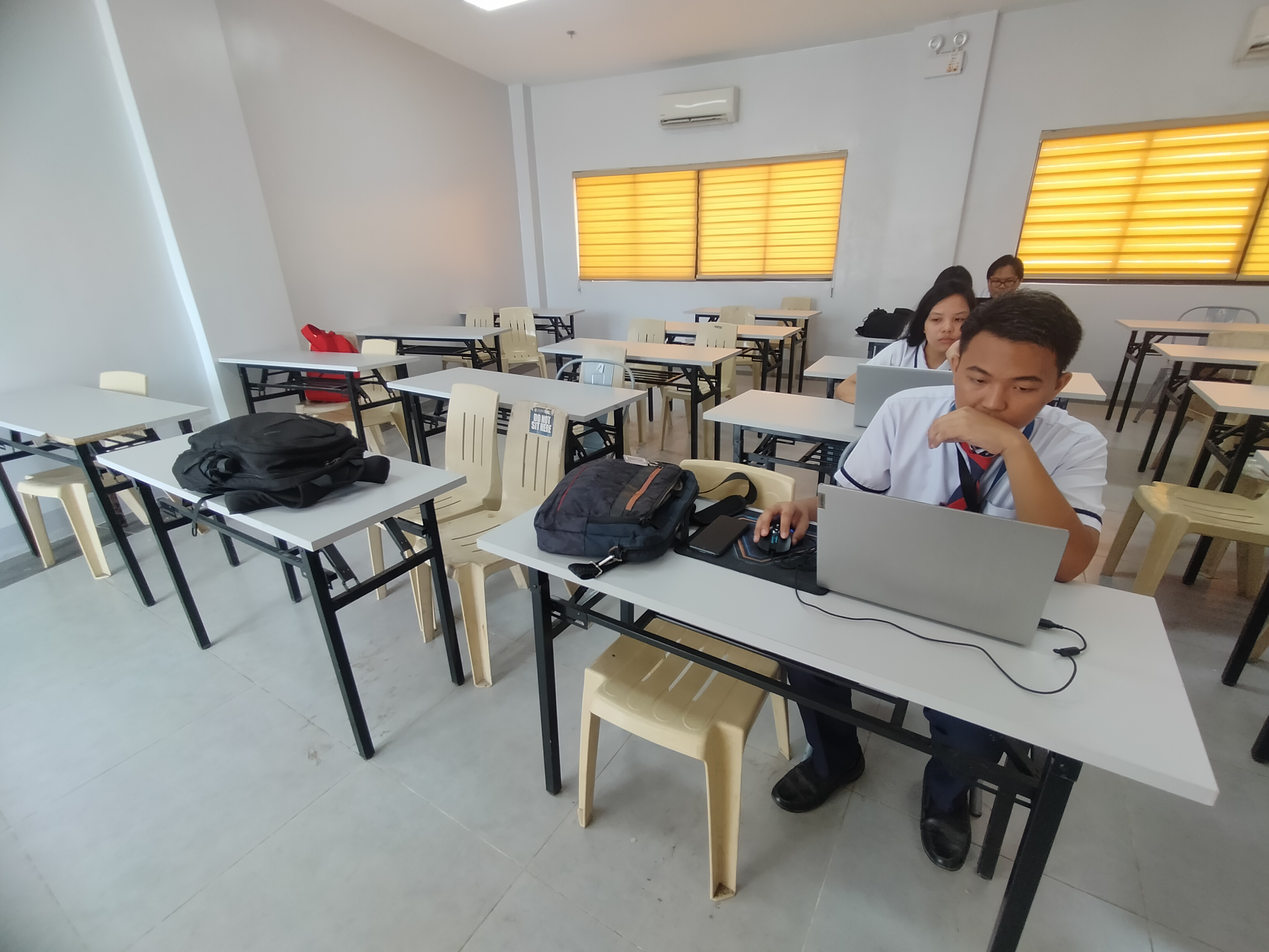with-student: (473, 285, 1224, 932), (696, 273, 995, 467), (858, 255, 1055, 350)
